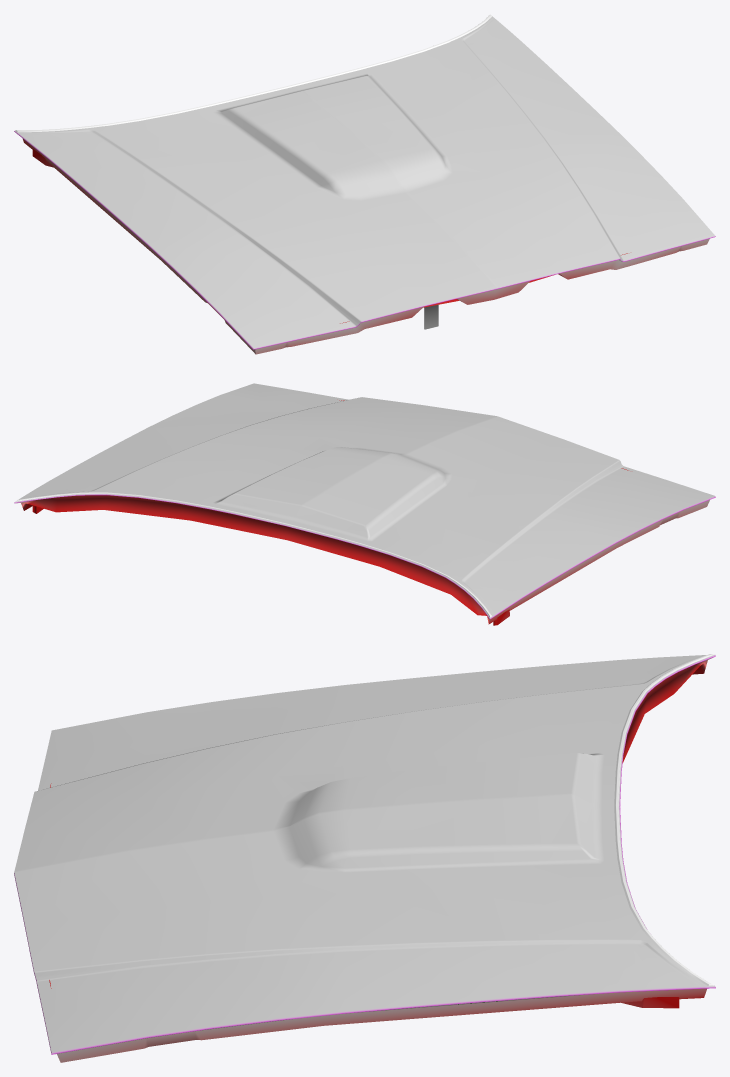
Rendered from Car_Buick_GrandNational_1987_Hood_SetA.fbx.
3 views of the same model, one above another, from view 1: azimuth 30°, elevation 25°; view 2: azimuth 150°, elevation 25°; view 3: azimuth 270°, elevation 25° (orthographic). The views are drawn at different scales.
Visible parts, largest first — view 1: Hood 6; view 2: Hood 6; view 3: Hood 6.
Boxes of the visible parts, x1,y1,x2,y2 form: Hood 6: (14, 14, 715, 354); Hood 6: (14, 383, 715, 625); Hood 6: (14, 654, 715, 1062).
Bounding box in the file's own units: 1.56 × 0.2871 × 1.4.
